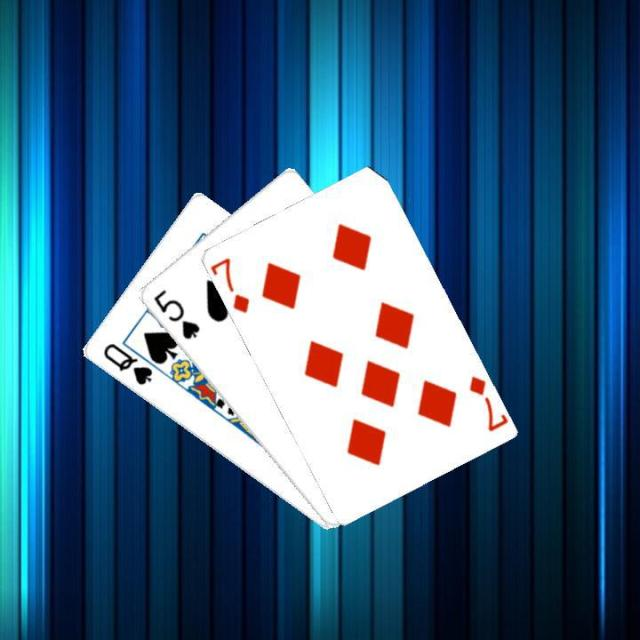5S: (149, 286, 201, 342)
7D: (208, 253, 252, 316), (464, 372, 507, 434)
QS: (98, 338, 154, 388)
